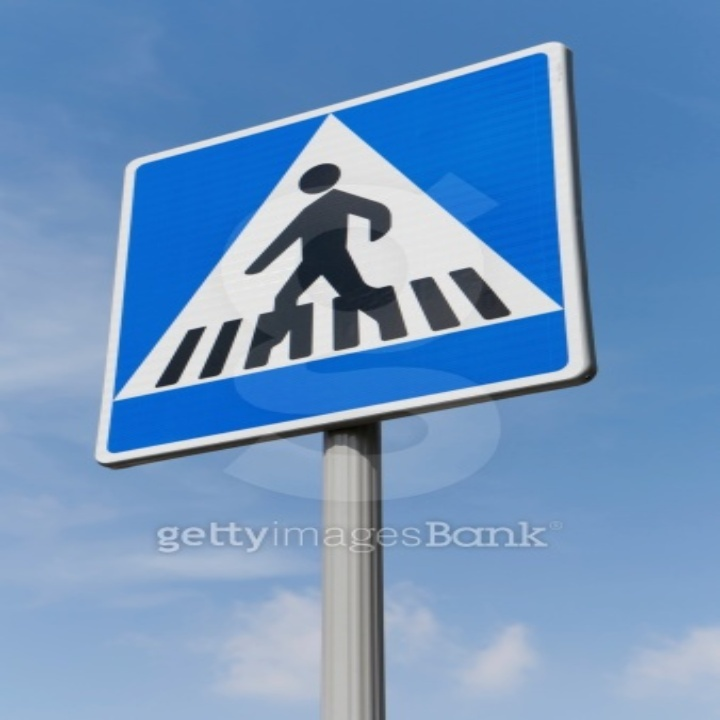cross: (241, 162, 393, 355)
